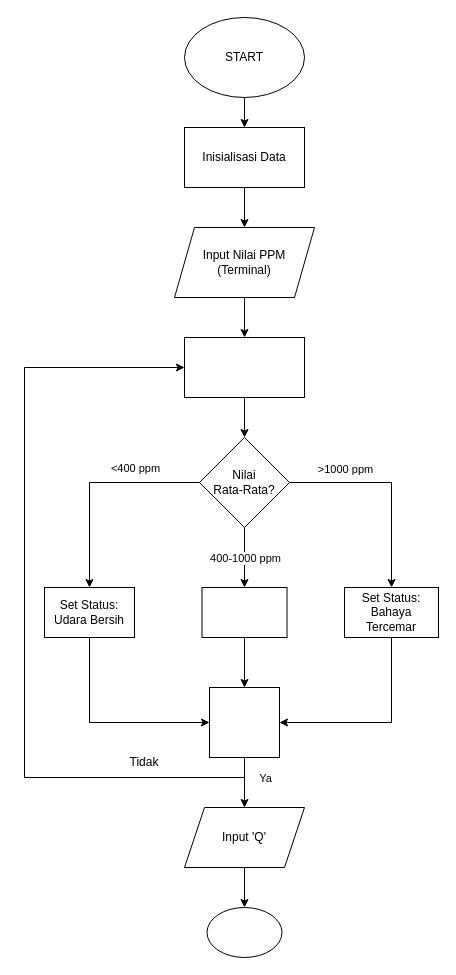
Image size: 456x975. Some labels were removed from this diagram. The centre of each missing label's shape, as x and y in pixels:
"End" belongs at point (244, 932).
"Moving Average" belongs at point (244, 367).
"Render Dashboard" belongs at point (244, 722).
"Set Status: Ideal" belongs at point (244, 612).
